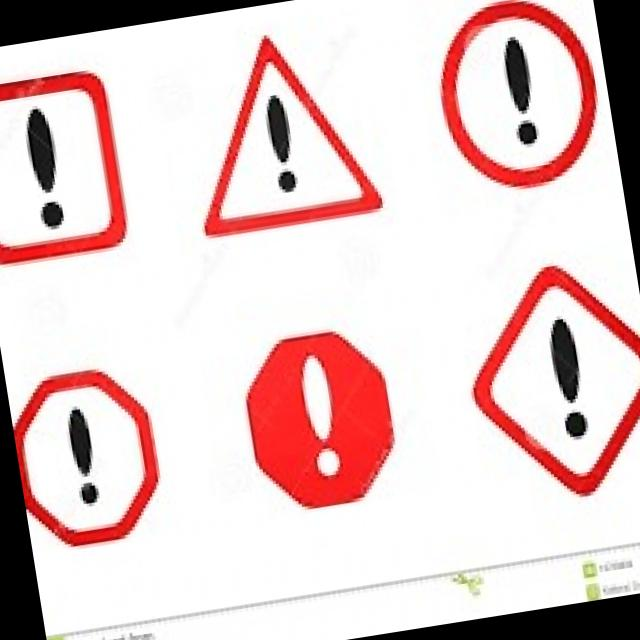warning: (163, 16, 384, 250)
